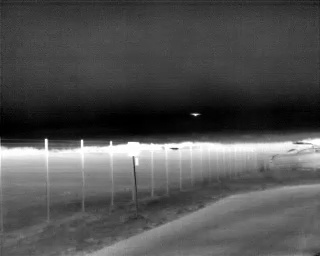AIRPLANE: (190, 110, 202, 119)
